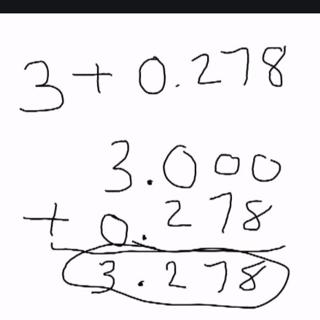.: (135, 167, 156, 192), (132, 276, 150, 289), (172, 79, 183, 97), (139, 231, 150, 242)
0: (160, 140, 199, 194), (133, 49, 172, 100), (246, 150, 281, 185), (212, 148, 243, 181)
2: (184, 48, 225, 93), (159, 198, 197, 234), (157, 258, 190, 294)
3: (12, 54, 67, 115), (97, 134, 138, 201)
7: (219, 44, 252, 91), (206, 187, 237, 235), (202, 261, 230, 294)
8: (258, 40, 292, 97), (242, 196, 273, 239), (235, 262, 268, 297)
